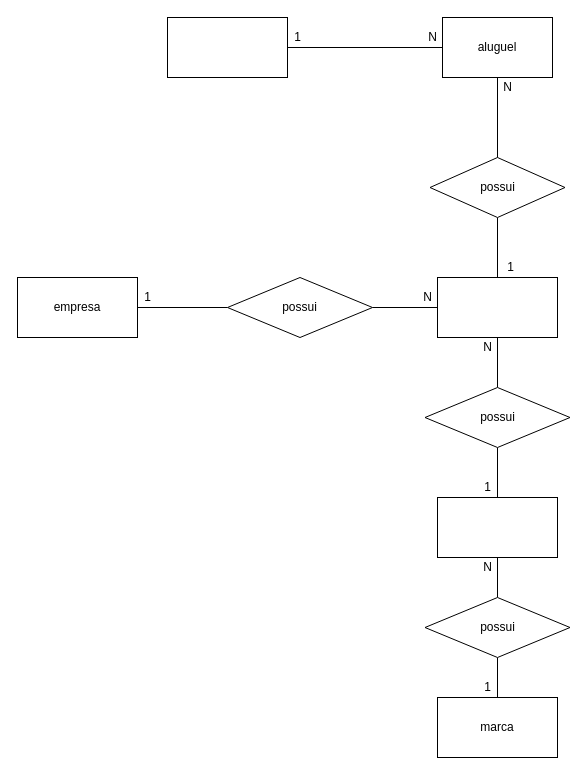
Some shapes in this 588 by 775 pixel diagram are drawn without their labels. The shapes that lost their labels are listed below. From the top down, each one's box as (x1, y1, x2, y2) in pixels, then its label:
(166, 16, 288, 78): cliente
(436, 276, 558, 338): veiculo
(436, 496, 558, 558): modelo
